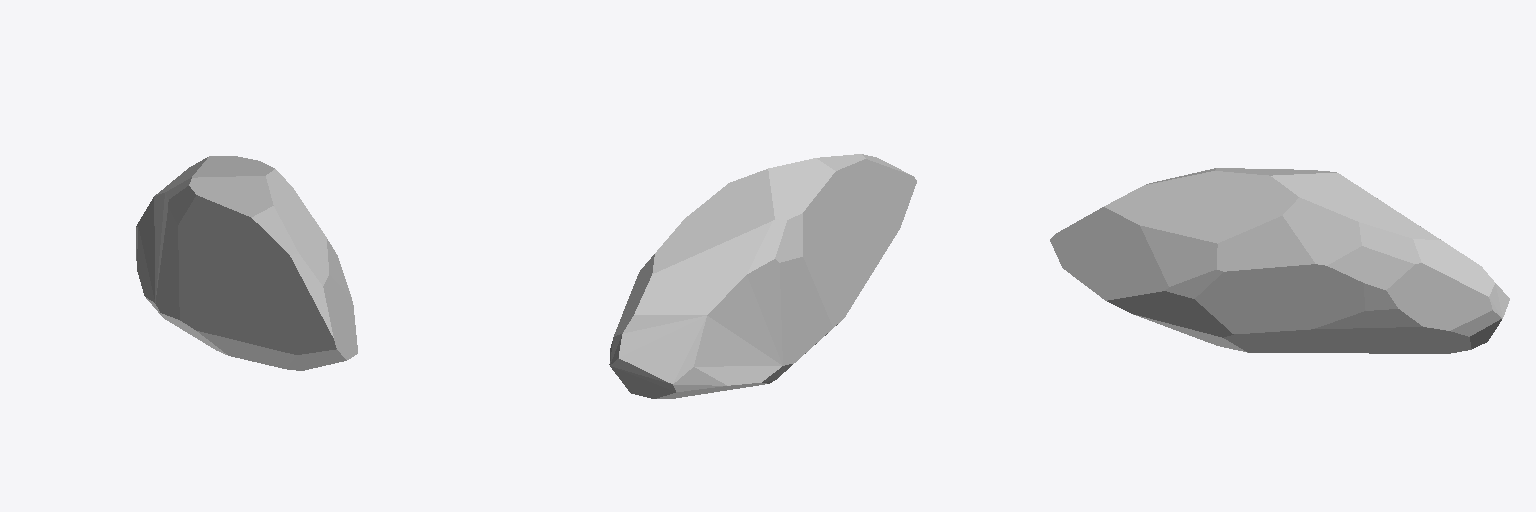
File: widRock1.obj
3 renders of one model, left to right at view 1: azimuth 30°, elevation 25°; view 2: azimuth 150°, elevation 25°; view 3: azimuth 270°, elevation 25°, orthographic.
Visible parts, largest first — view 1: Sphere_002; view 2: Sphere_002; view 3: Sphere_002.
Part boxes in pixels (x1,y1,x2,y2): Sphere_002: (136, 156, 357, 370); Sphere_002: (609, 154, 916, 398); Sphere_002: (1050, 168, 1509, 353).
Size of the model in its own units: 66.6 by 74.38 by 188.